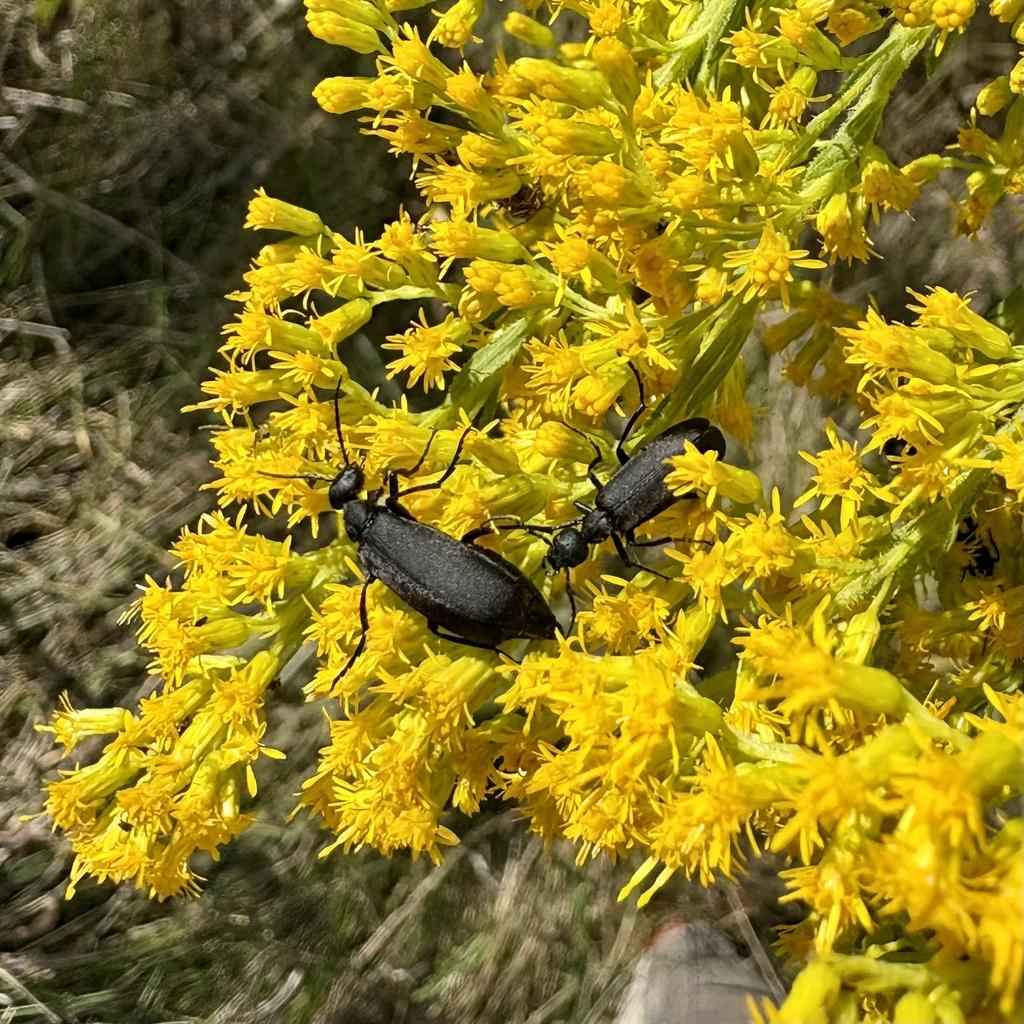blister_beetle: (217, 356, 593, 717), (457, 302, 783, 654)
